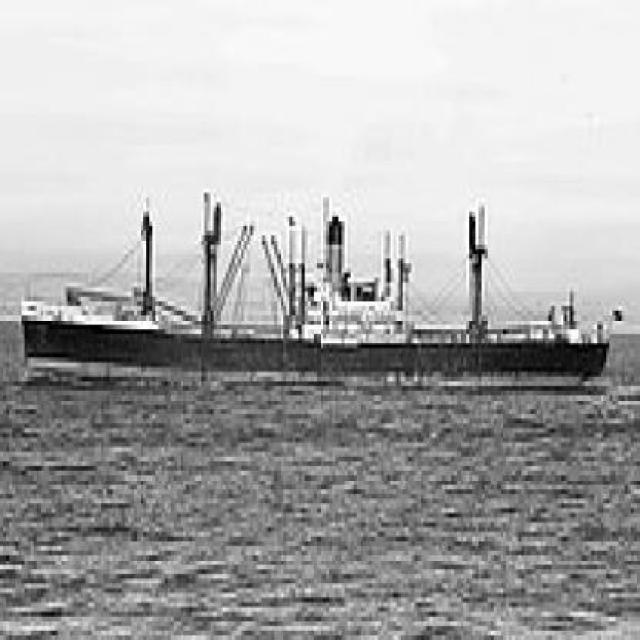container: (13, 165, 626, 434)
